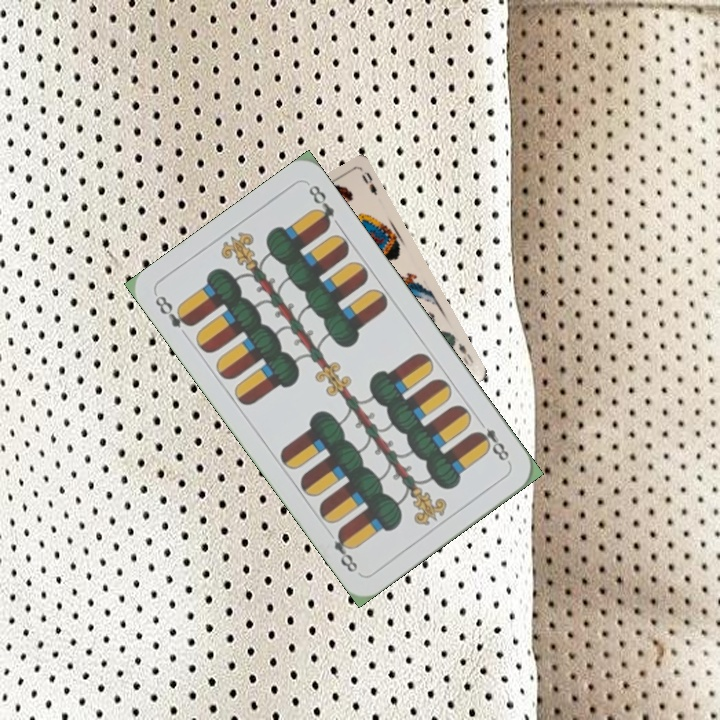E8: (470, 415, 513, 467), (151, 291, 196, 331)
EO: (454, 339, 476, 369)
